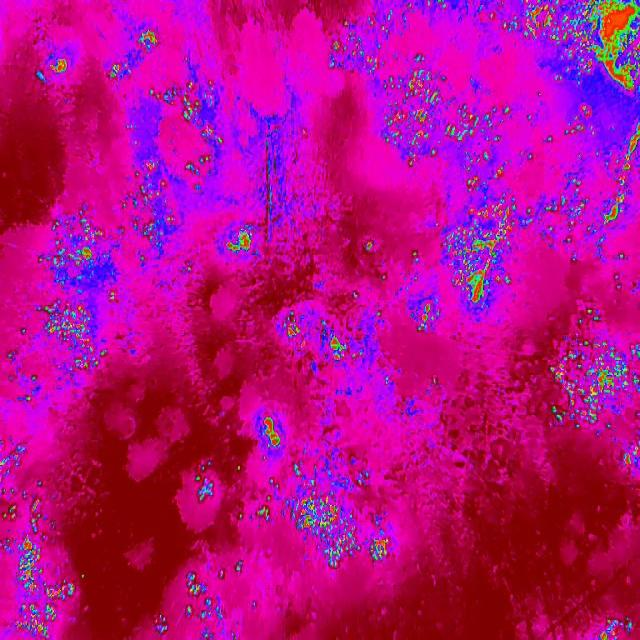fire: (374, 57, 514, 195), (322, 0, 518, 78), (518, 106, 610, 265), (1, 440, 74, 640), (546, 302, 640, 434), (283, 458, 389, 570), (520, 0, 638, 96), (3, 300, 108, 404), (441, 195, 518, 307), (116, 158, 184, 270), (183, 562, 260, 640), (34, 212, 106, 292), (593, 122, 640, 232), (190, 456, 248, 526), (144, 82, 210, 126), (256, 475, 282, 525), (258, 412, 287, 453), (596, 614, 640, 638), (224, 228, 255, 260), (182, 153, 214, 179), (618, 438, 640, 474), (282, 309, 301, 343), (416, 302, 436, 332), (138, 27, 160, 52), (328, 333, 346, 361), (50, 53, 68, 79), (152, 613, 169, 637), (106, 61, 122, 81)
